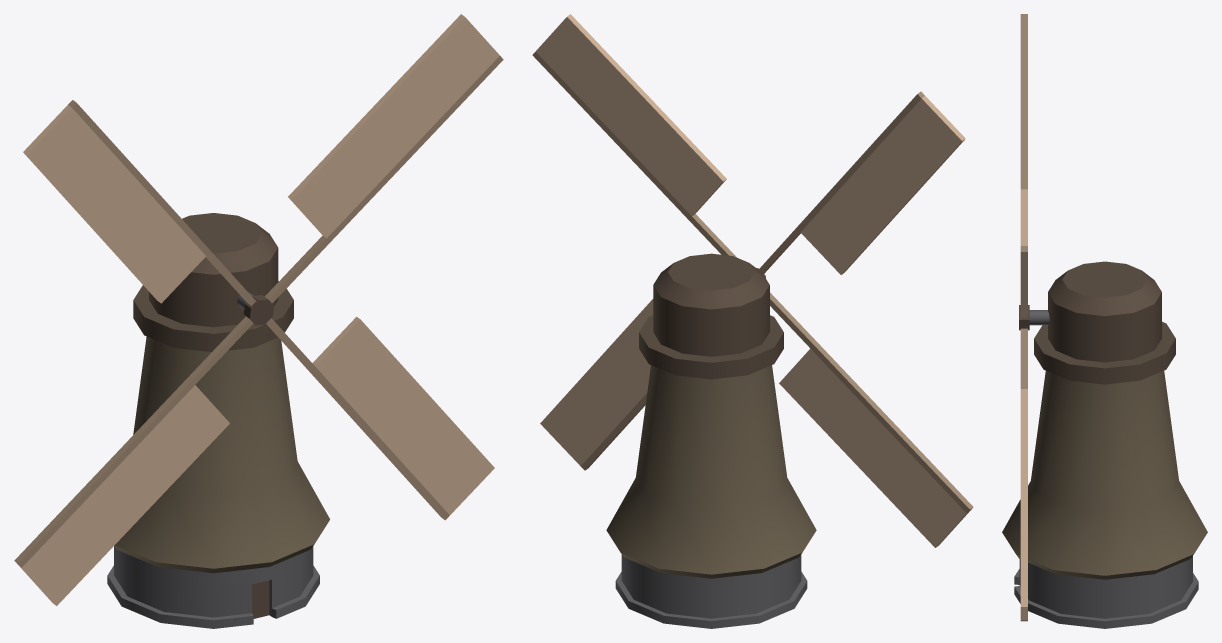
File: b7ELlnwTfKn.glb
The picture shows the model from 3 angles, left to right: view 1: azimuth 30°, elevation 25°; view 2: azimuth 150°, elevation 25°; view 3: azimuth 270°, elevation 25°; orthographic projection. The views are drawn at different scales.
Visible parts, largest first — view 1: SM_WindMill:SM_WindMill1; view 2: SM_WindMill:SM_WindMill1; view 3: SM_WindMill:SM_WindMill1.
Boxes of the visible parts, x1=… form: SM_WindMill:SM_WindMill1: x1=14, y1=14, x2=503, y2=628; SM_WindMill:SM_WindMill1: x1=532, y1=14, x2=973, y2=628; SM_WindMill:SM_WindMill1: x1=1002, y1=14, x2=1207, y2=628.
Size of the model in its own units: 0.9049 by 1 by 0.3765.
